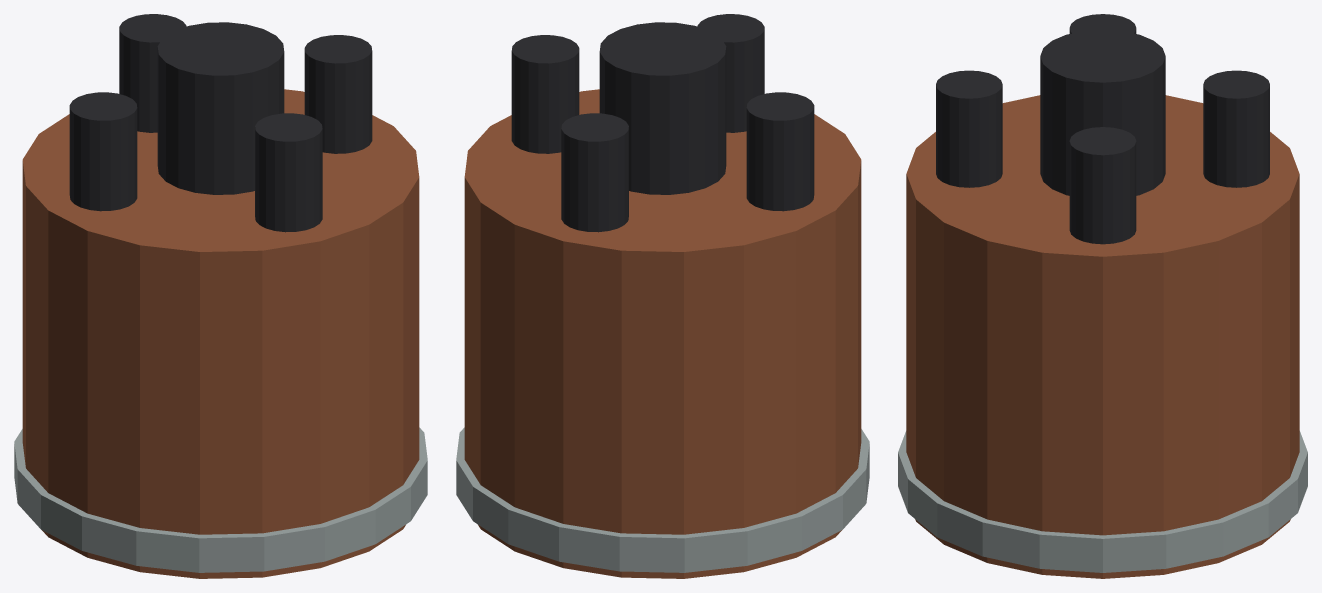
The model's file is ENG_Distributor.glb.
3 views of the same model, side by side, from view 1: azimuth 30°, elevation 25°; view 2: azimuth 150°, elevation 25°; view 3: azimuth 270°, elevation 25° (orthographic).
Visible parts, largest first — view 1: Housing, Terminals, Tower, Crimp; view 2: Housing, Terminals, Tower, Crimp; view 3: Housing, Terminals, Crimp, Tower.
Boxes of the visible parts, box(x1,y1,x2,y2) form: Housing: box(22, 89, 419, 578); Terminals: box(69, 14, 372, 232); Tower: box(157, 22, 284, 194); Crimp: box(14, 427, 427, 572); Housing: box(464, 89, 861, 578); Terminals: box(511, 14, 814, 232); Tower: box(599, 22, 726, 194); Crimp: box(456, 427, 869, 572); Housing: box(906, 95, 1299, 578); Terminals: box(936, 14, 1269, 244); Crimp: box(898, 431, 1307, 572); Tower: box(1040, 29, 1165, 195).
Size of the model in its own units: 0.098 by 0.116 by 0.098.
